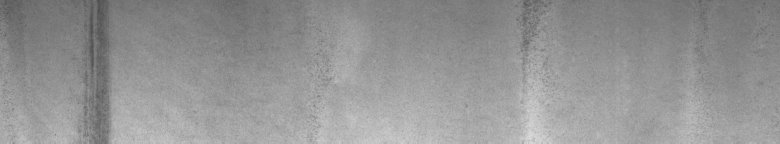hd: (76, 4, 116, 136)
